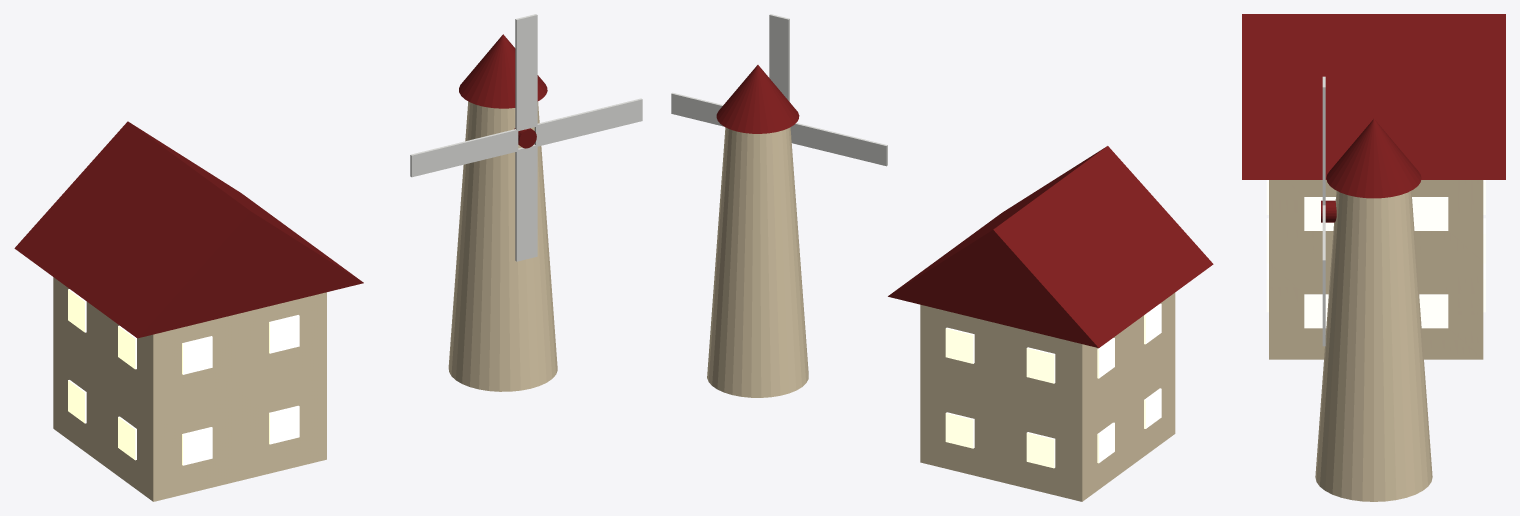
File: island-game-assets-animation.glb
3 views of the same model, side by side, from view 1: azimuth 30°, elevation 25°; view 2: azimuth 150°, elevation 25°; view 3: azimuth 270°, elevation 25° (orthographic). The views are drawn at different scales.
Parts seen in each view (by area): view 1: Cylinder, Molen_Toren, Cube, Molen_As, Cube.004, Cube.001, Cube.005, Cube.002, Molen_Hoedje, Cube.006, Raam.008, Raam (+2 smaller); view 2: Cylinder, Molen_Toren, Cube.002, Cube.006, Cube.003, Cube.007, Molen_As, Cube, Molen_Hoedje, Cube.004, Raam.009, Raam.005 (+2 smaller); view 3: Cylinder, Molen_Toren, Cube.003, Cube.001, Molen_Hoedje, Cube.007, Cube.005, Molen_As, Raam.015, Raam.011, Raam.003, Raam.007.
Part boxes in pixels (bbox=[...]): Cylinder: bbox=[14, 121, 363, 338]; Molen_Toren: bbox=[448, 101, 557, 391]; Cube: bbox=[103, 374, 240, 501]; Molen_As: bbox=[410, 14, 642, 261]; Cube.004: bbox=[103, 313, 240, 410]; Cube.001: bbox=[240, 369, 326, 480]; Cube.005: bbox=[240, 292, 326, 389]; Cube.002: bbox=[53, 338, 103, 465]; Molen_Hoedje: bbox=[459, 34, 547, 108]; Cube.006: bbox=[53, 277, 103, 374]; Raam.008: bbox=[269, 405, 299, 444]; Raam: bbox=[182, 427, 212, 465]; Cylinder: bbox=[888, 146, 1213, 347]; Molen_Toren: bbox=[707, 127, 808, 397]; Cube.002: bbox=[1001, 383, 1128, 501]; Cube.006: bbox=[1001, 324, 1128, 416]; Cube.003: bbox=[920, 378, 1001, 481]; Cube.007: bbox=[920, 304, 1001, 397]; Molen_As: bbox=[671, 14, 887, 166]; Cube: bbox=[1128, 349, 1175, 467]; Molen_Hoedje: bbox=[716, 65, 799, 133]; Cube.004: bbox=[1128, 292, 1175, 382]; Raam.009: bbox=[945, 412, 974, 448]; Raam.005: bbox=[1026, 347, 1055, 383]; Cylinder: bbox=[1242, 14, 1505, 179]; Molen_Toren: bbox=[1315, 190, 1432, 501]; Cube.003: bbox=[1416, 262, 1483, 359]; Cube.001: bbox=[1269, 262, 1331, 359]; Molen_Hoedje: bbox=[1326, 119, 1421, 198]; Cube.007: bbox=[1411, 180, 1483, 261]; Cube.005: bbox=[1269, 180, 1336, 261]; Molen_As: bbox=[1321, 76, 1336, 346]; Raam.015: bbox=[1412, 197, 1448, 230]; Raam.011: bbox=[1419, 294, 1448, 328]; Raam.003: bbox=[1304, 294, 1328, 328]; Raam.007: bbox=[1304, 197, 1335, 230].
Bounding box in the file's own units: 91.66 × 59.5 × 35.98.
